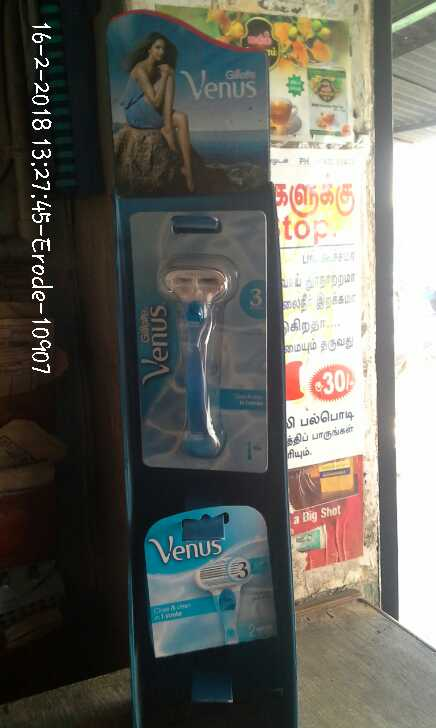venus: (123, 207, 267, 474), (140, 503, 290, 652)
